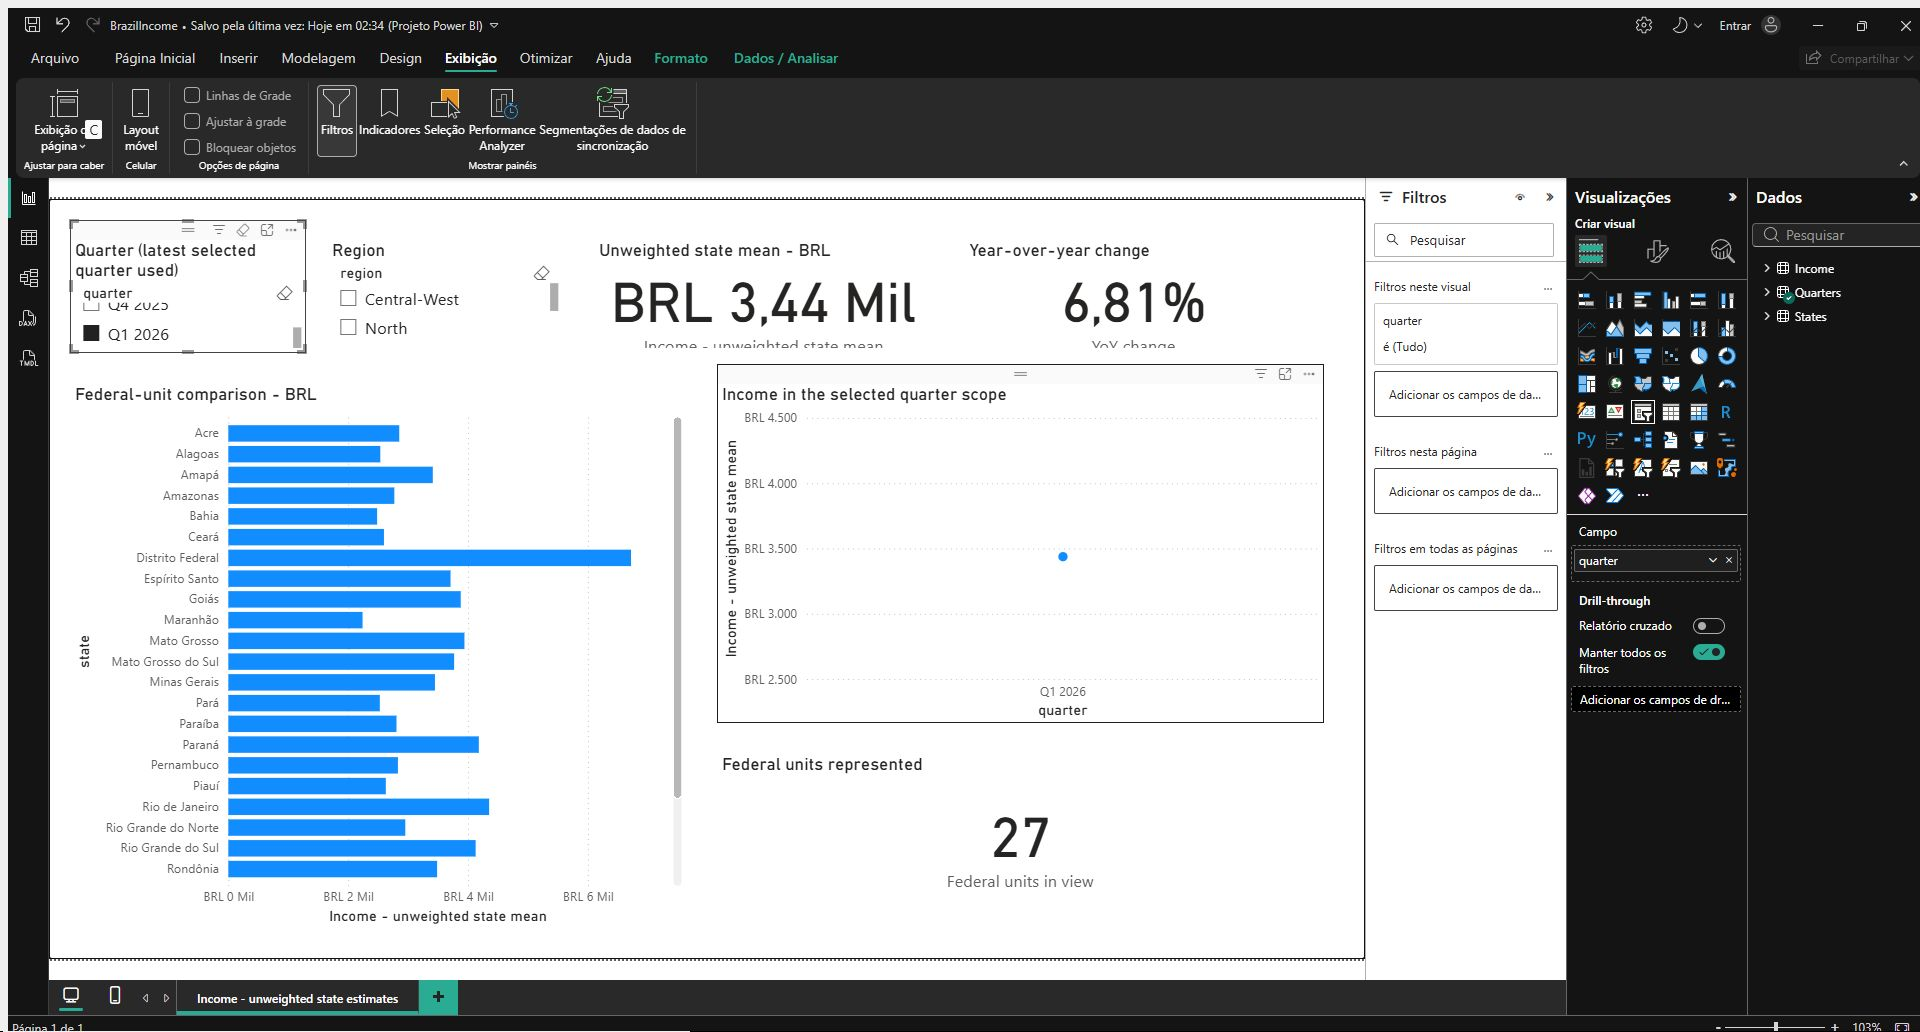

Layout of this report page (visuals, bound fields, positions):
{"tool":"powerbi","page":{"name":"Income - unweighted state estimates","canvas":[1280,720],"ordinal":0},"visuals":[{"type":"slicer","title":"Quarter (latest selected quarter used)","fields":{"Values":["Quarters.quarter"]},"box":[20,20,230,110],"z":0},{"type":"slicer","title":"Region","fields":{"Values":["States.region"]},"box":[270,20,230,110],"z":0},{"type":"card","title":"Unweighted state mean - BRL","fields":{"Values":["Income.Income - unweighted state mean"]},"box":[530,20,330,110],"z":0},{"type":"card","title":"Year-over-year change","fields":{"Values":["Income.YoY change"]},"box":[890,20,330,110],"z":0},{"type":"clusteredBarChart","title":"Federal-unit comparison - BRL","fields":{"Category":["States.state"],"Y":["Income.Income - unweighted state mean"]},"box":[20,160,600,530],"z":0},{"type":"lineChart","title":"Income in the selected quarter scope","fields":{"Category":["Quarters.quarter"],"Y":["Income.Income - unweighted state mean"]},"box":[650,160,590,330],"z":0},{"type":"card","title":"Federal units represented","fields":{"Values":["Income.Federal units in view"]},"box":[650,520,590,150],"z":0}]}

Visuals, with their boxes on the page's 1280x720 design canvas (x1, y1, x2, y2). These are canvas units, not pixel positions in the 1920x1032 screenshot, which may show the page scaled, cropped or inside an application window:
"Quarter (latest selected quarter used)" slicer: {"x1": 20, "y1": 20, "x2": 250, "y2": 130}
"Region" slicer: {"x1": 270, "y1": 20, "x2": 500, "y2": 130}
"Unweighted state mean - BRL" card: {"x1": 530, "y1": 20, "x2": 860, "y2": 130}
"Year-over-year change" card: {"x1": 890, "y1": 20, "x2": 1220, "y2": 130}
"Federal-unit comparison - BRL" clusteredBarChart: {"x1": 20, "y1": 160, "x2": 620, "y2": 690}
"Income in the selected quarter scope" lineChart: {"x1": 650, "y1": 160, "x2": 1240, "y2": 490}
"Federal units represented" card: {"x1": 650, "y1": 520, "x2": 1240, "y2": 670}
